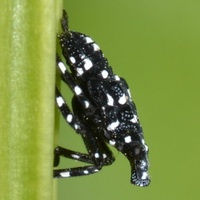insect: (54, 10, 149, 186)
